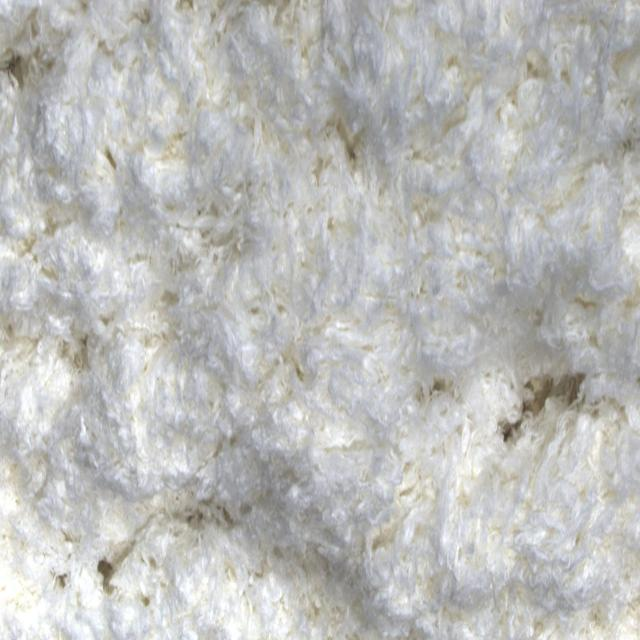dust: (506, 365, 576, 444)
